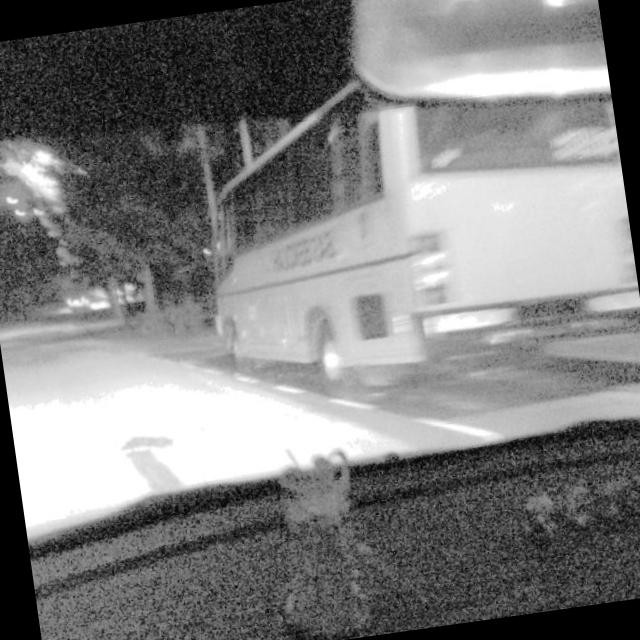Bus: (166, 61, 640, 368)
Car: (18, 382, 640, 640)
